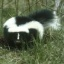skunk: (3, 11, 60, 42)
